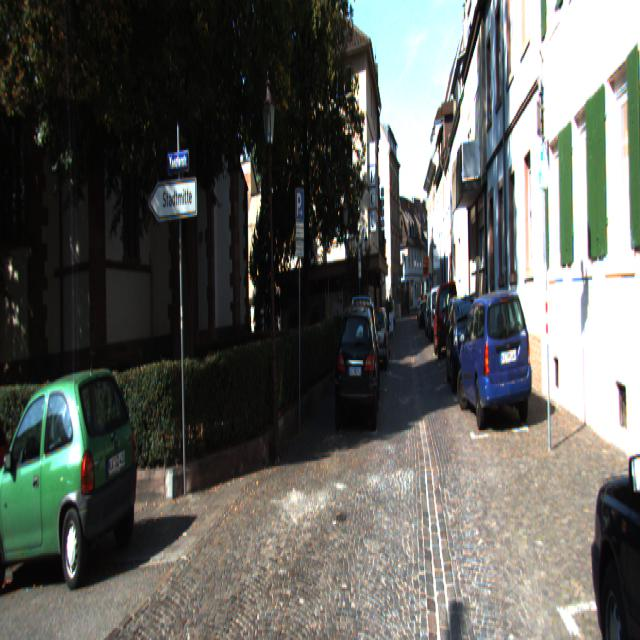Car: (0, 359, 145, 602), (580, 280, 640, 638), (456, 286, 536, 441), (332, 300, 380, 432), (444, 291, 494, 392), (433, 277, 458, 356), (367, 306, 390, 368)
